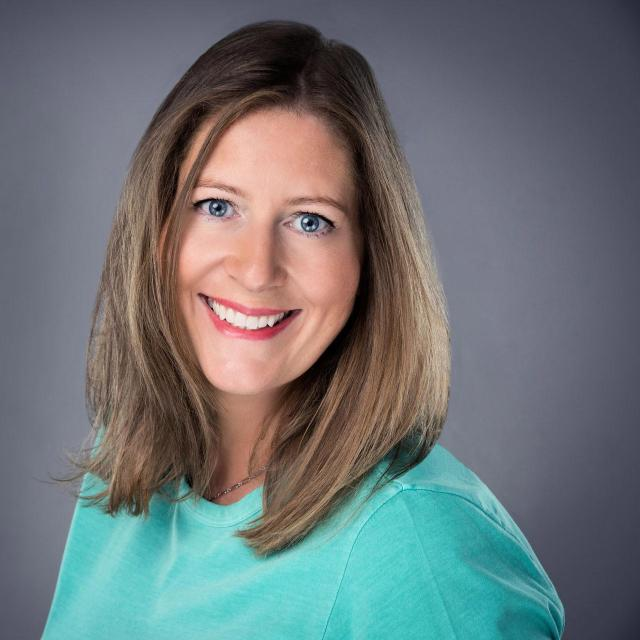human: (41, 18, 562, 640)
